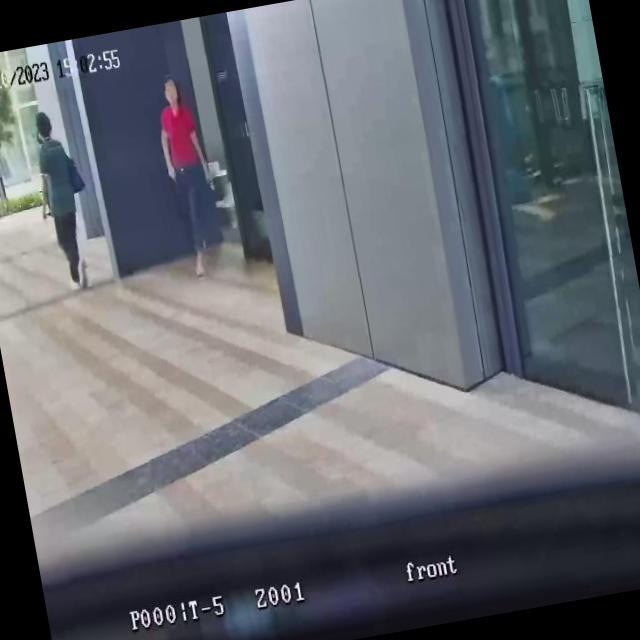person: (150, 70, 228, 279), (25, 105, 103, 294)
